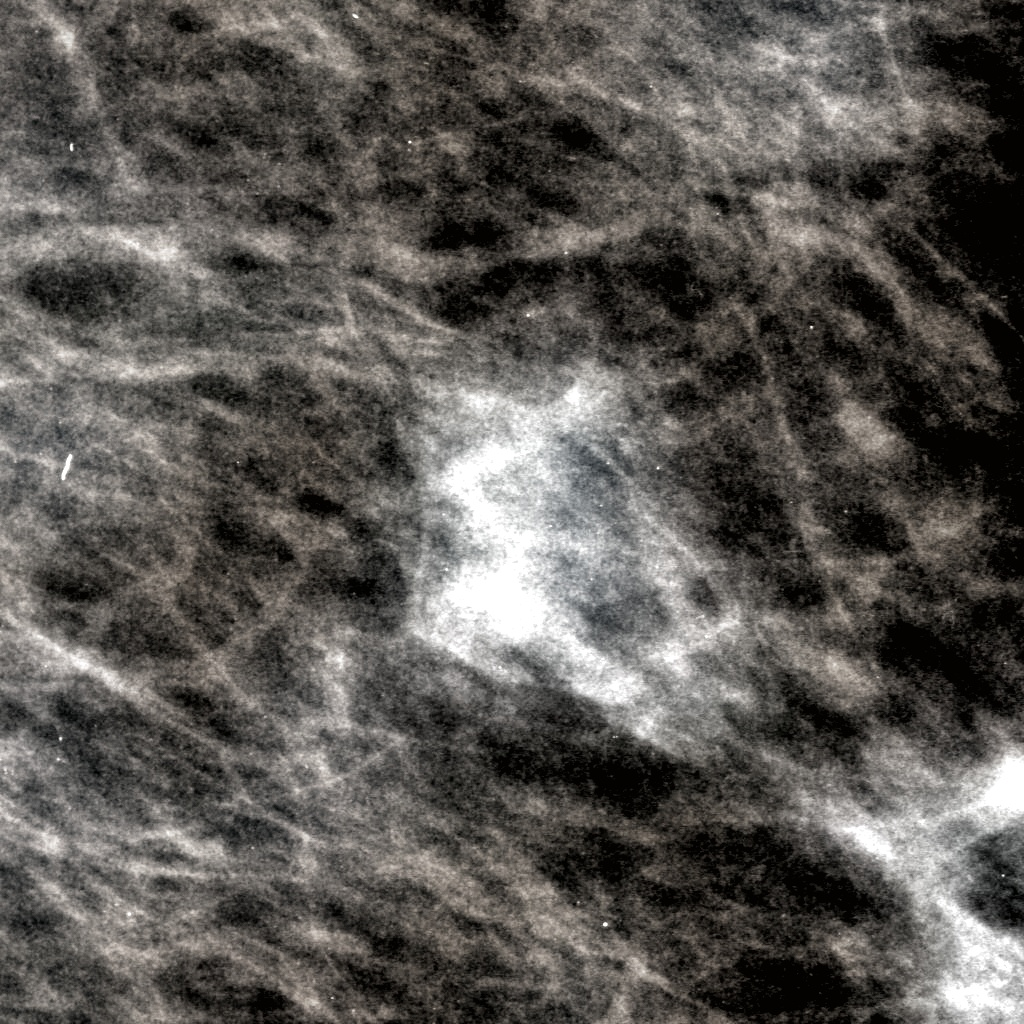tumor: (409, 375, 615, 649)
